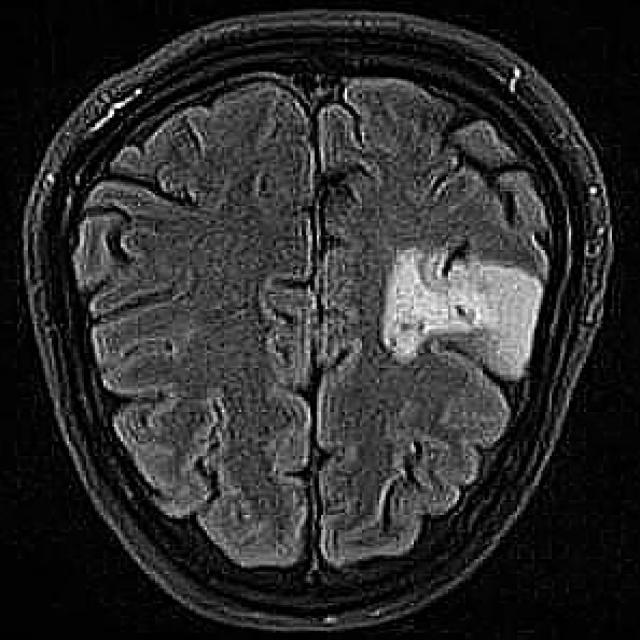Tumor-Cell: (391, 238, 556, 360)
